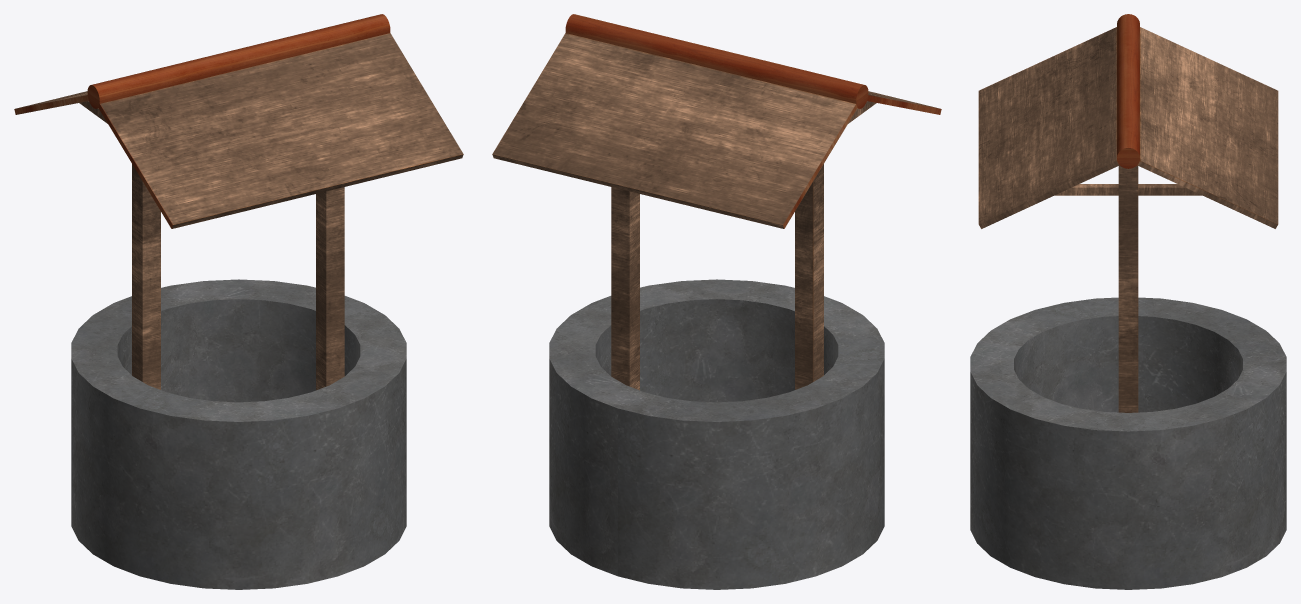
Rendered from ido_03 (1).fbx.
3 renders of one model, left to right at view 1: azimuth 30°, elevation 25°; view 2: azimuth 150°, elevation 25°; view 3: azimuth 270°, elevation 25°, orthographic. The views are drawn at different scales.
Parts seen in each view (by area): view 1: pCylinder1, pCylinder2, pCube5; view 2: pCylinder1, pCylinder2, pCube5; view 3: pCylinder1, pCylinder2, pCube5, pCube6.
Boxes of the visible parts, x1,y1,x2,y2 form: pCylinder1: [71, 279, 406, 589]; pCylinder2: [14, 14, 463, 228]; pCube5: [132, 164, 344, 390]; pCylinder1: [549, 279, 884, 589]; pCylinder2: [492, 14, 941, 228]; pCube5: [611, 164, 823, 390]; pCylinder1: [970, 297, 1286, 589]; pCylinder2: [978, 14, 1278, 228]; pCube5: [1118, 165, 1138, 412]; pCube6: [1055, 184, 1201, 195].
Size of the model in its own units: 4.55 by 6.97 by 4.53.
